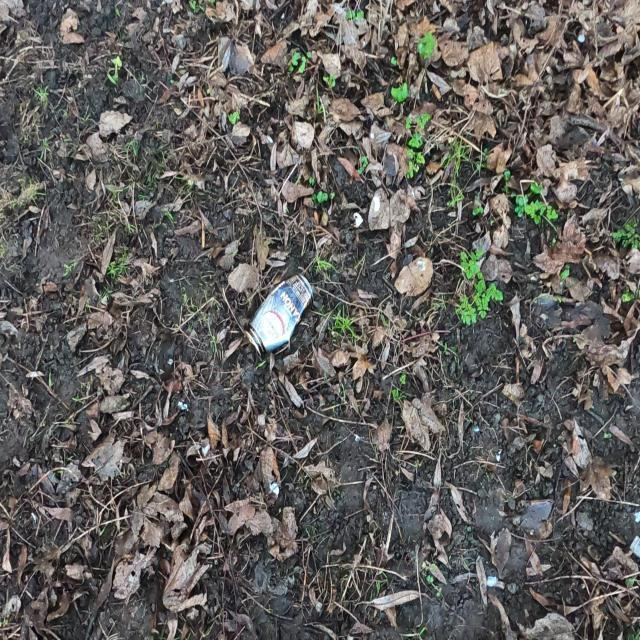Can-Metal: (242, 271, 315, 360)
